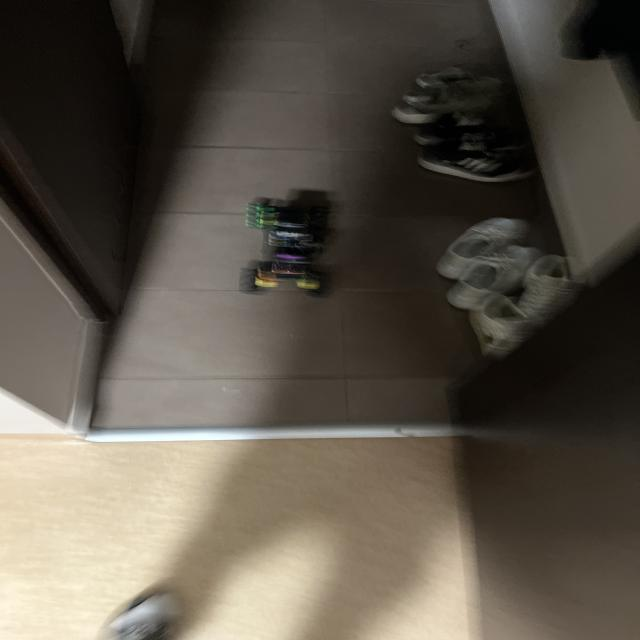robot: (241, 198, 329, 295)
